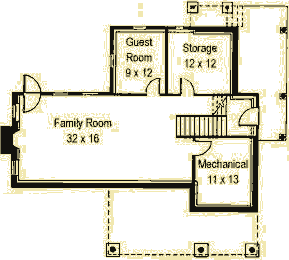door: (236, 106, 260, 126), (20, 73, 43, 93), (143, 77, 163, 97), (180, 76, 197, 98), (22, 94, 41, 113), (192, 139, 213, 156)
stairs: (175, 114, 228, 140)
window: (11, 159, 20, 175), (109, 51, 117, 67), (131, 25, 150, 31)
